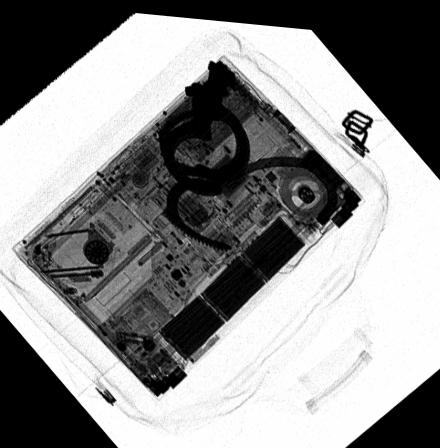HandCuffs: (154, 52, 252, 250)
